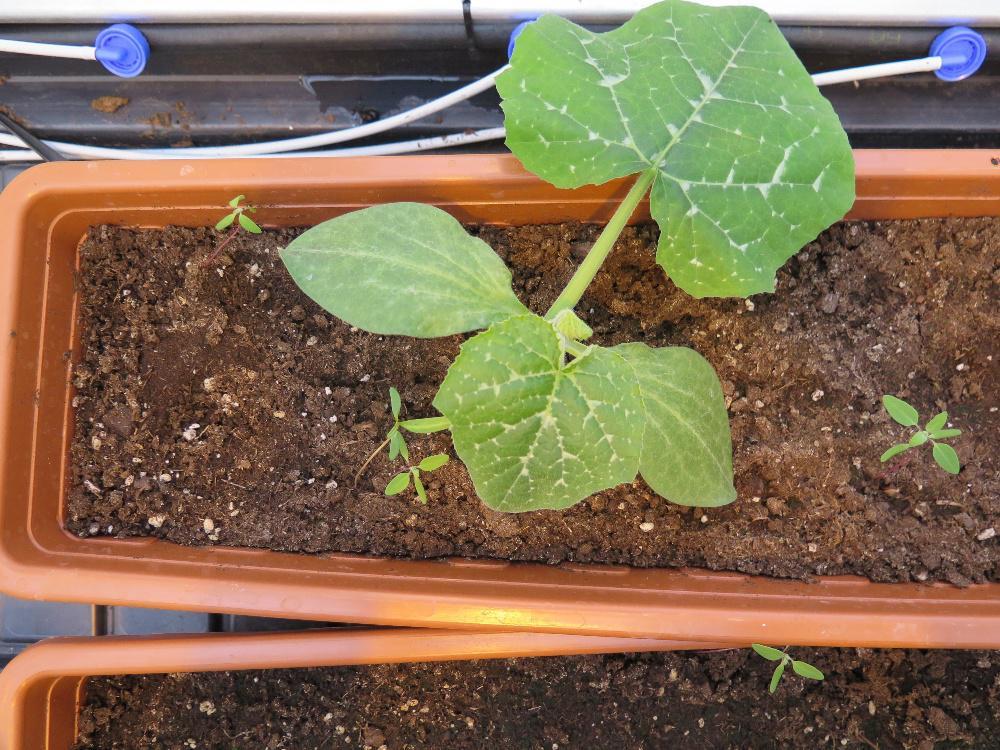weed: (877, 391, 964, 475), (749, 641, 824, 697), (212, 190, 262, 233)
